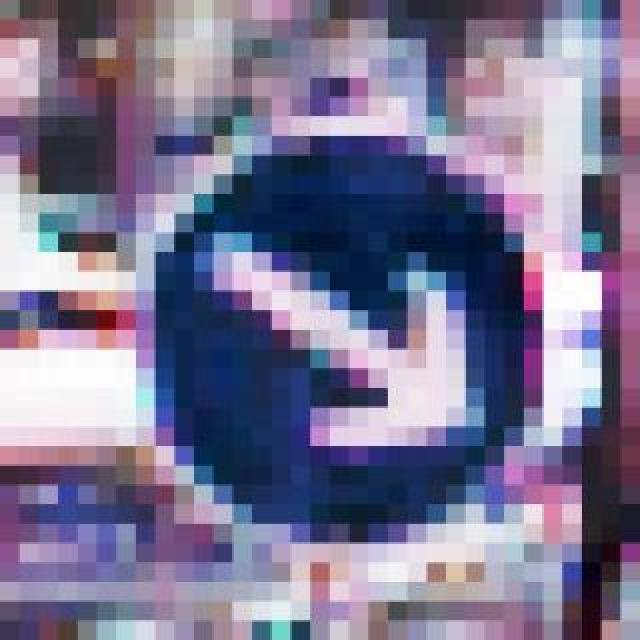keep right: (96, 78, 524, 542)
